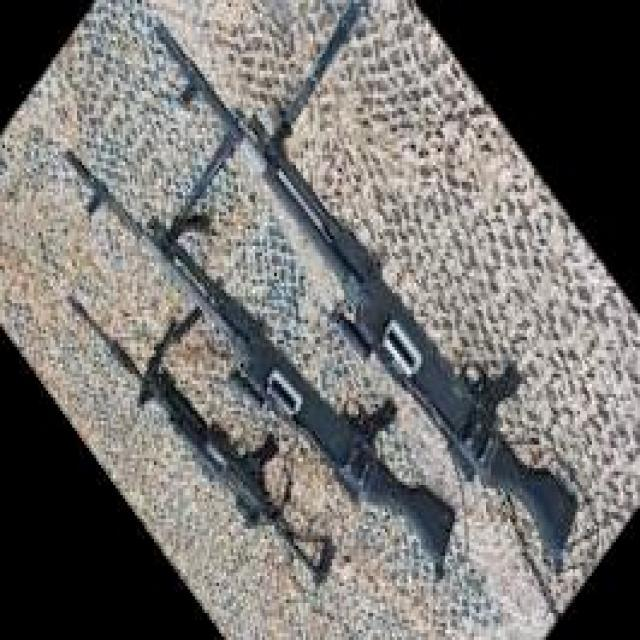weapon: (153, 0, 579, 556), (61, 139, 458, 583), (65, 293, 338, 585)
